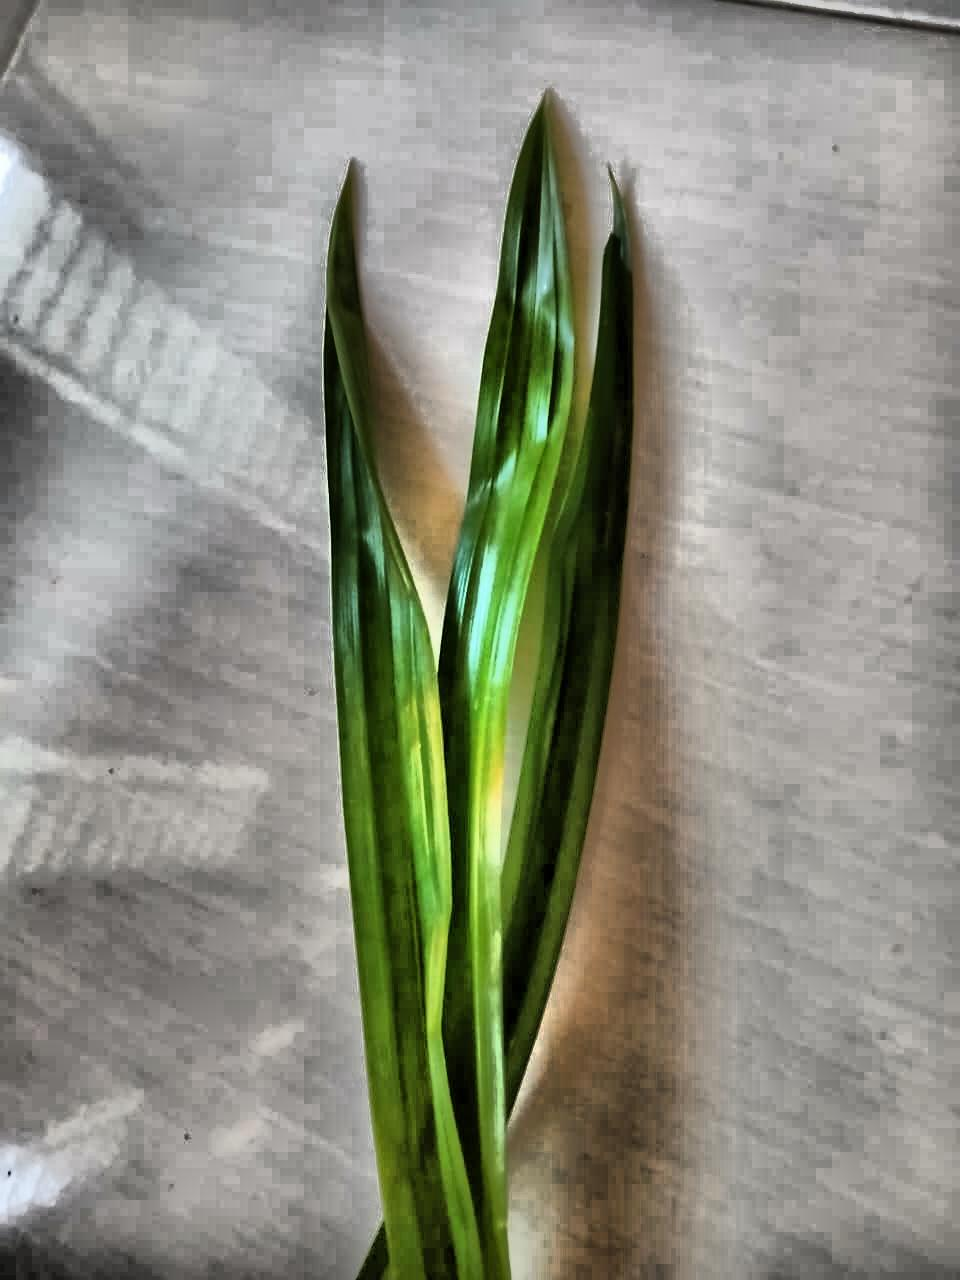daun pandan: (324, 97, 634, 1279)
